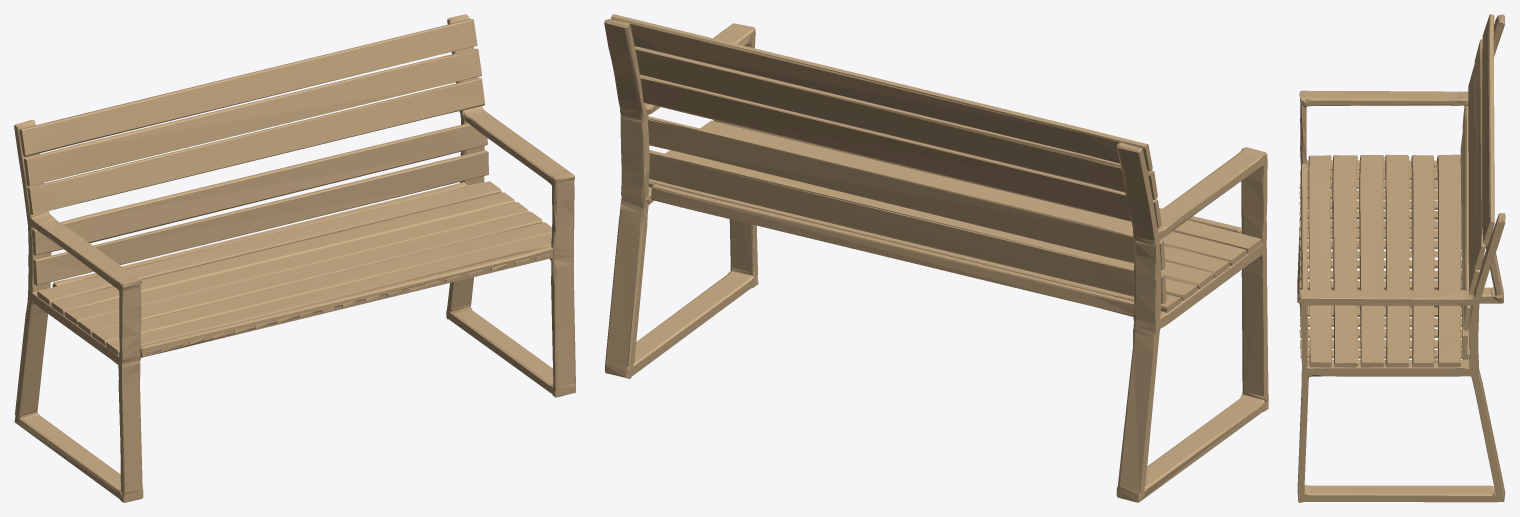
Rendered from gen-park-bench-1.glb.
The picture shows the model from 3 angles, left to right: view 1: azimuth 30°, elevation 25°; view 2: azimuth 150°, elevation 25°; view 3: azimuth 270°, elevation 25°; orthographic projection. The views are drawn at different scales.
Parts seen in each view (by area): view 1: gen-park-bench-1_part1; view 2: gen-park-bench-1_part1; view 3: gen-park-bench-1_part1.
Part boxes in pixels (x1,y1,x2,y2): gen-park-bench-1_part1: (14, 14, 575, 502); gen-park-bench-1_part1: (604, 14, 1268, 502); gen-park-bench-1_part1: (1297, 14, 1505, 502).
Bounding box in the file's own units: 1331 × 850 × 565.
